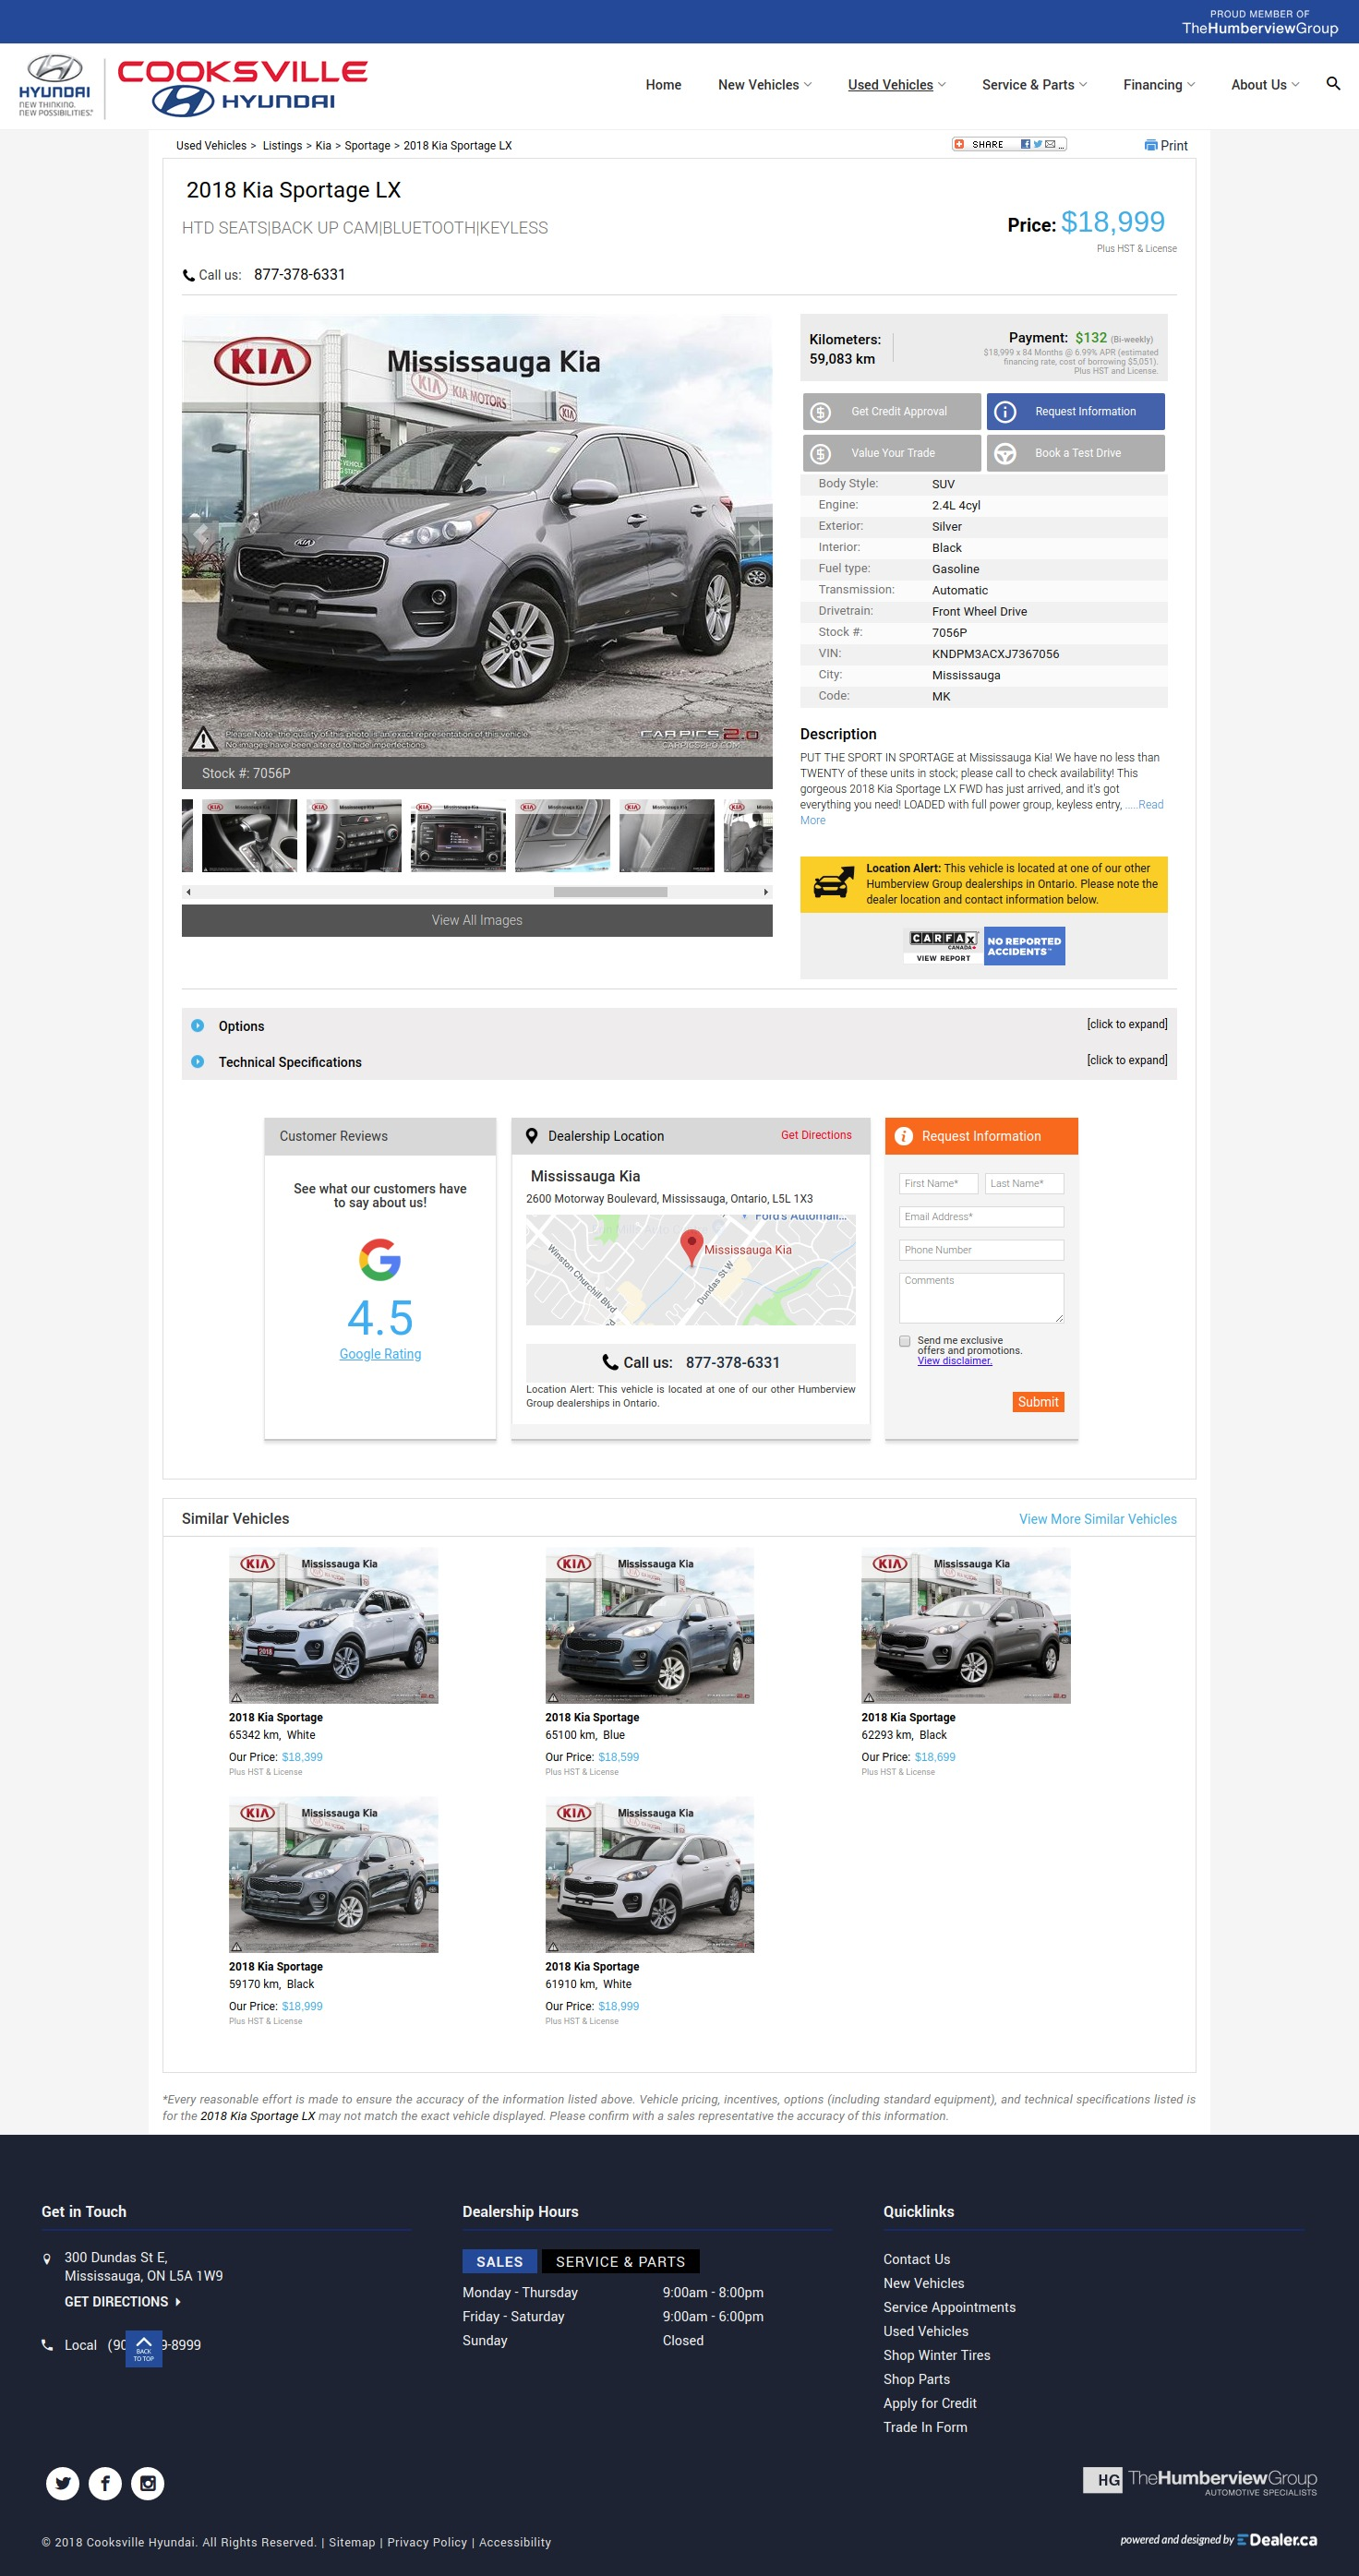car: (764, 889, 771, 898)
